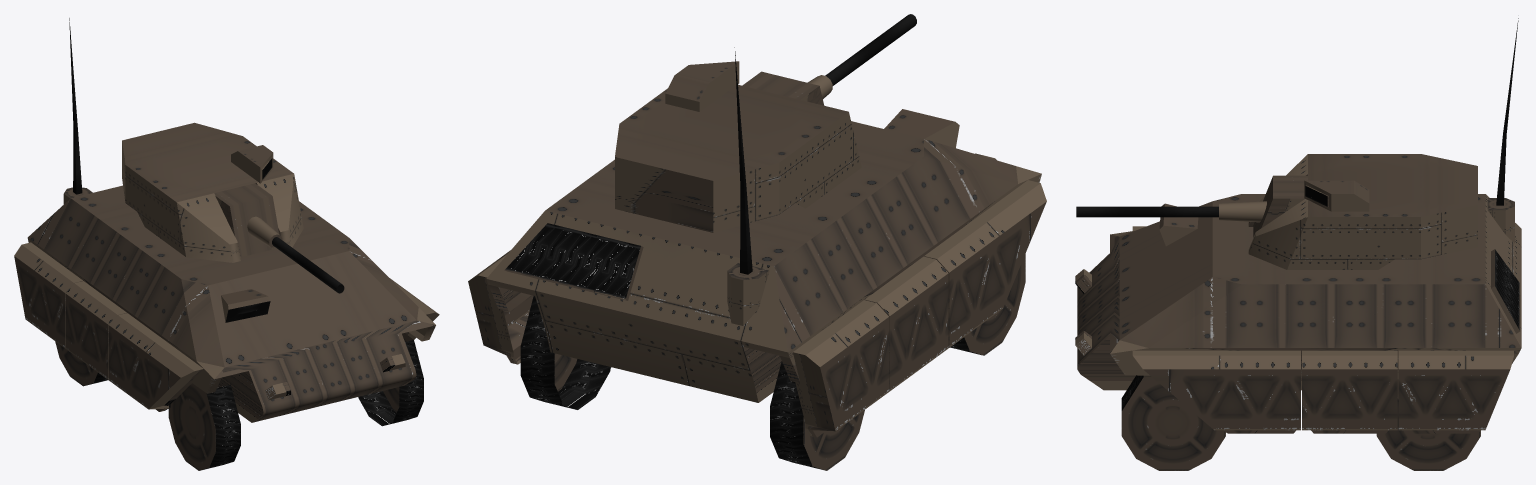
File: Car_Lvl2.fbx
3 renders of one model, left to right at view 1: azimuth 30°, elevation 25°; view 2: azimuth 150°, elevation 25°; view 3: azimuth 270°, elevation 25°, orthographic. The views are drawn at different scales.
Visible parts, largest first — view 1: Car_Lvl2; view 2: Car_Lvl2; view 3: Car_Lvl2.
Part boxes in pixels (bbox=[...]): Car_Lvl2: bbox=[14, 18, 439, 470]; Car_Lvl2: bbox=[468, 14, 1046, 470]; Car_Lvl2: bbox=[1075, 18, 1521, 470].
Bounding box in the file's own units: 3.43 × 3.08 × 2.53.
